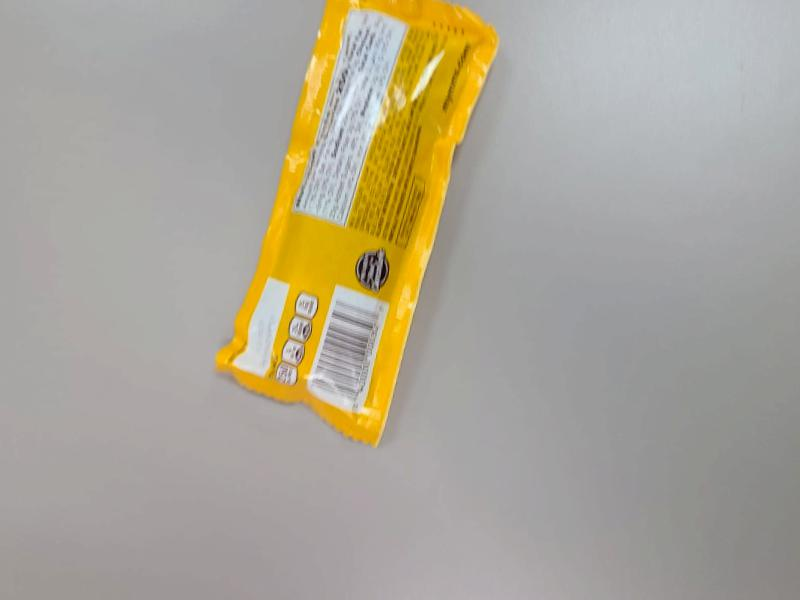m&m: (223, 0, 466, 494)
